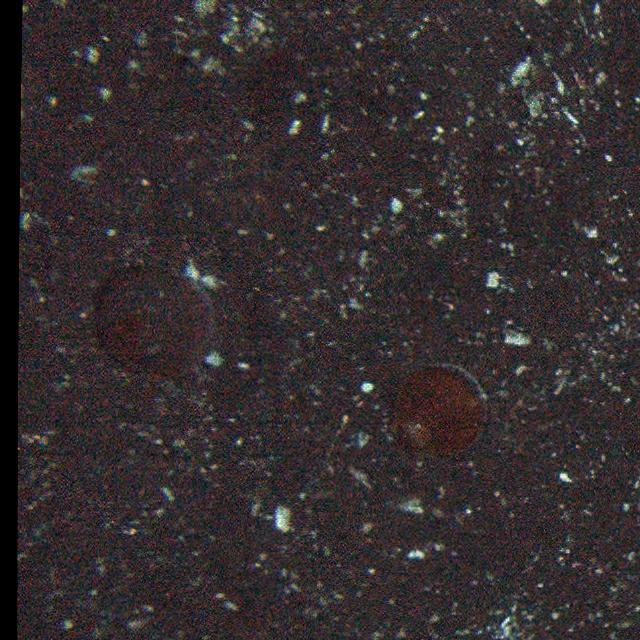scallop: (104, 266, 214, 374), (393, 361, 490, 458)
